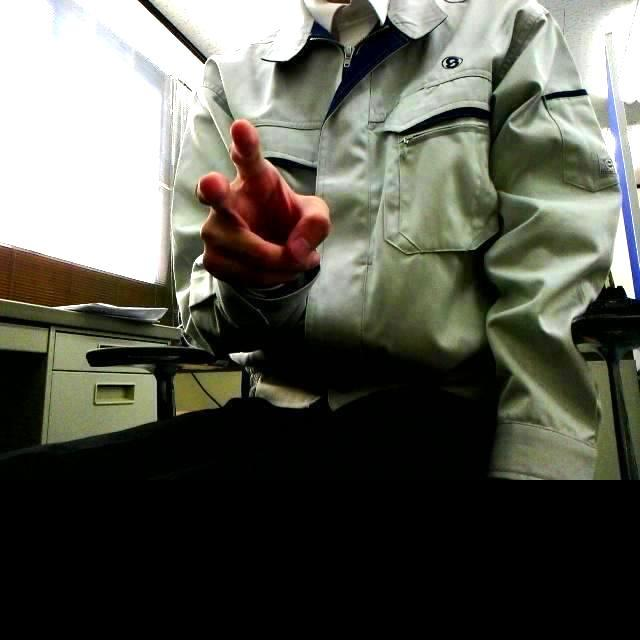tyoki: (195, 119, 332, 291)
